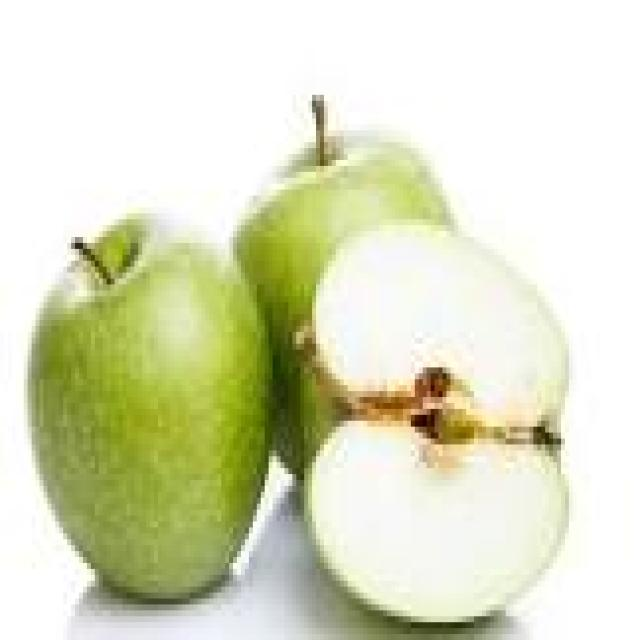apple: (305, 226, 568, 622), (28, 220, 272, 598), (234, 95, 450, 479)
